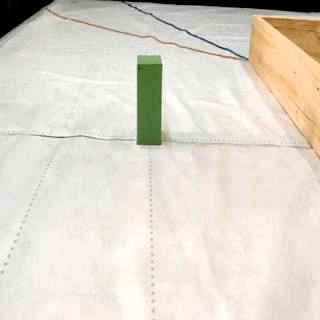greenbox: (136, 54, 163, 147)
